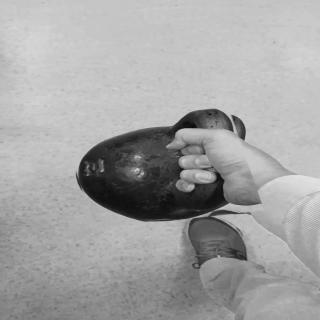kettlebell: (69, 112, 257, 226)
